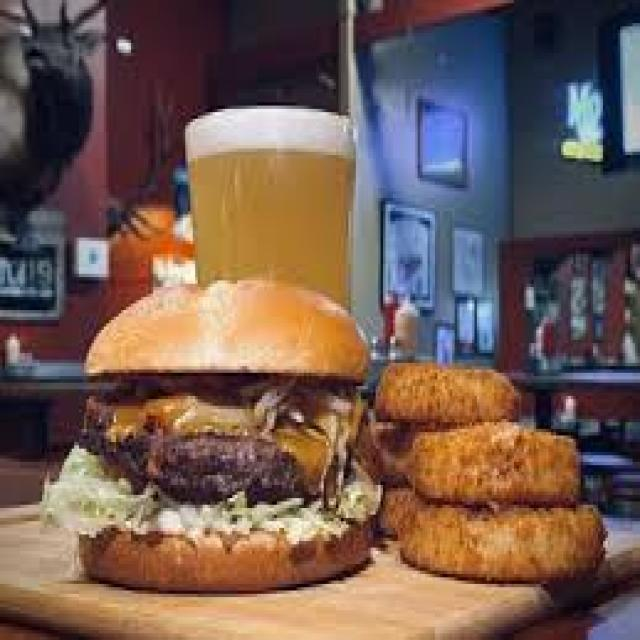햄버거: (68, 241, 386, 618)
